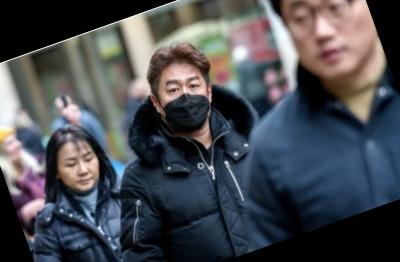with_mask: (152, 65, 223, 140)
without_mask: (54, 144, 108, 197)
